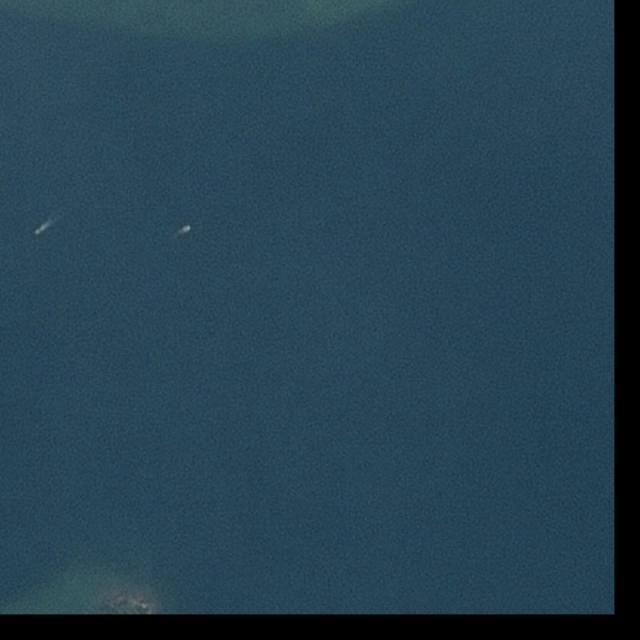ship: (33, 224, 47, 238), (181, 225, 194, 235)
